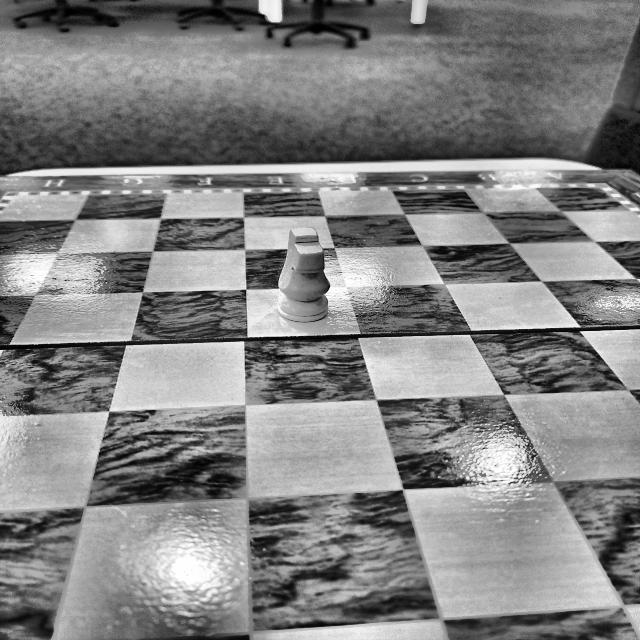white-knight: (277, 227, 331, 322)
